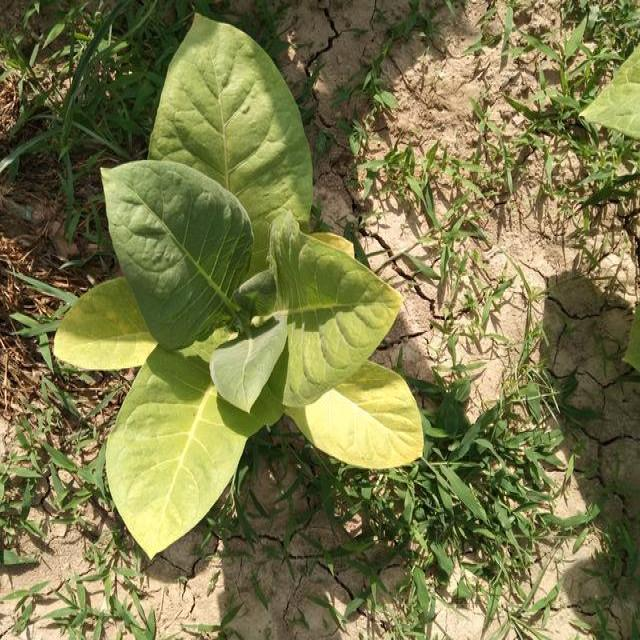crop: (43, 17, 431, 546)
